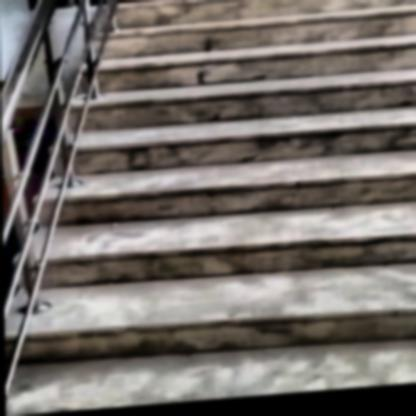stair: (37, 0, 416, 406)
